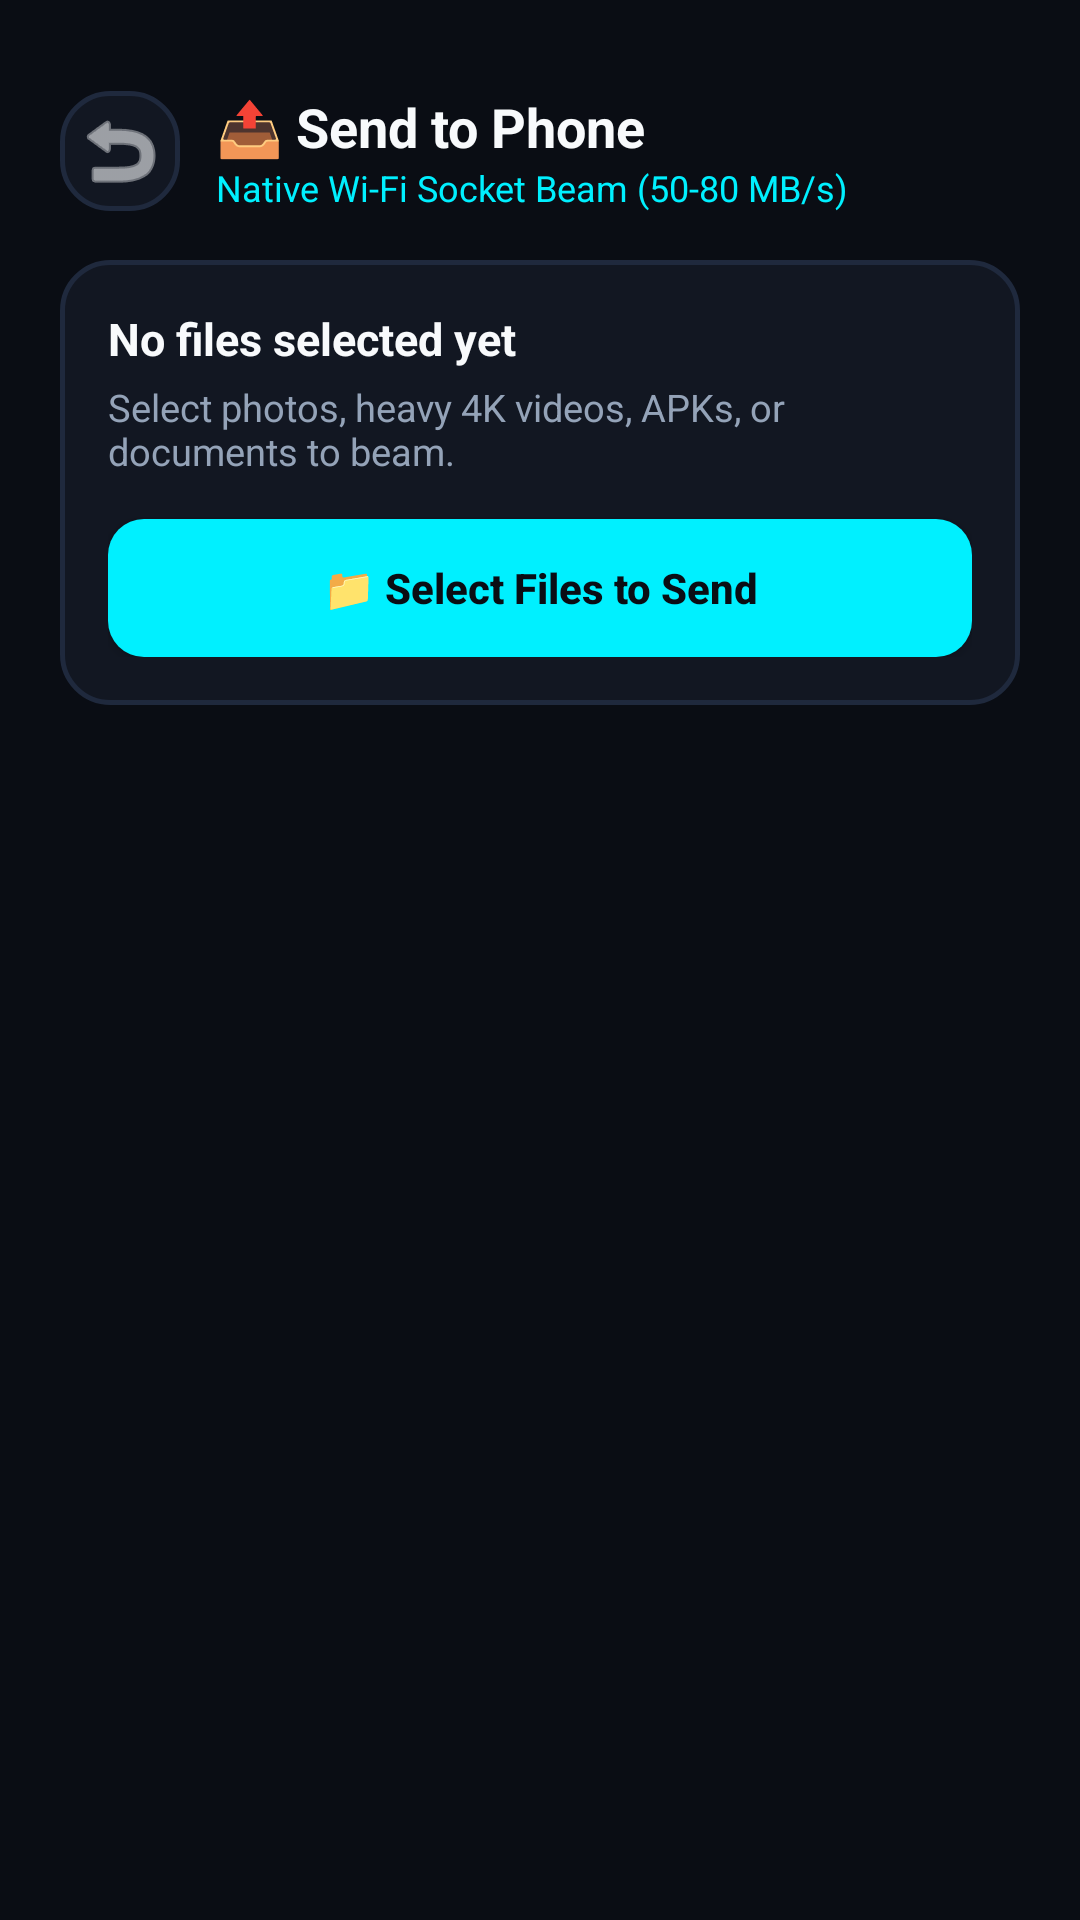

Icon click points for this 1080*1920 phone screenshot, format (x=x, y=y):
Back: (x=120, y=151)
